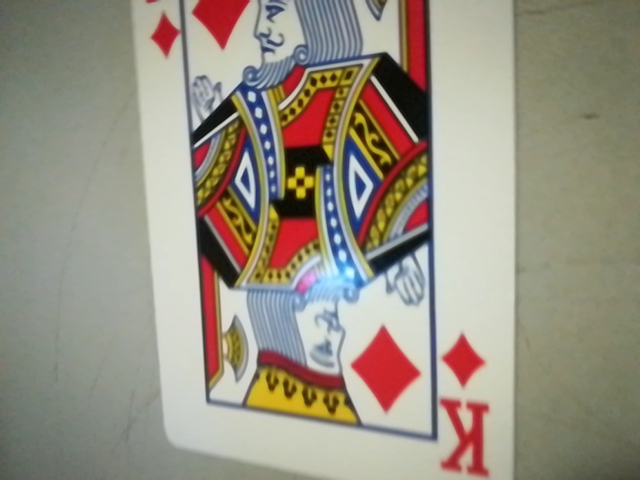fk k: (428, 328, 505, 480)
